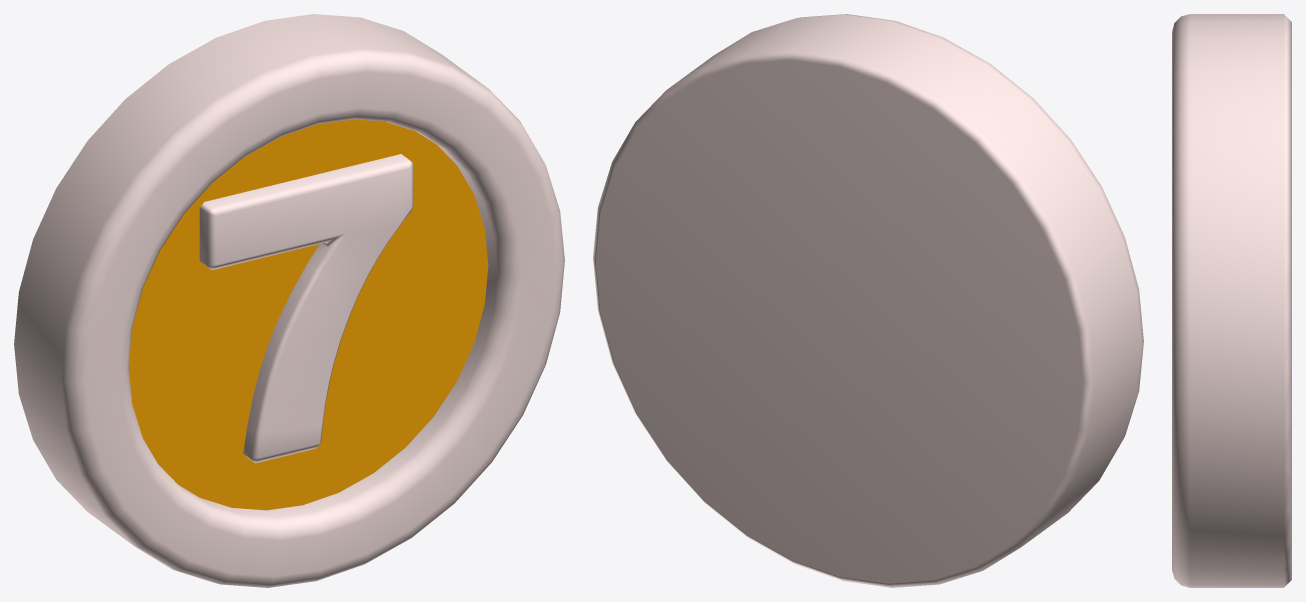
Rendered from City_20_Number_House_7.glb.
3 renders of one model, left to right at view 1: azimuth 30°, elevation 25°; view 2: azimuth 150°, elevation 25°; view 3: azimuth 270°, elevation 25°, orthographic.
Visible parts, largest first — view 1: City_20_Number_House_7; view 2: City_20_Number_House_7; view 3: City_20_Number_House_7.
Boxes of the visible parts, x1,y1,x2,y2 form: City_20_Number_House_7: (14, 14, 564, 587); City_20_Number_House_7: (593, 14, 1143, 587); City_20_Number_House_7: (1172, 14, 1291, 587).
Bounding box in the file's own units: 0.5101 × 0.5101 × 0.1065.
Materials: 1 (1 with a texture image).
